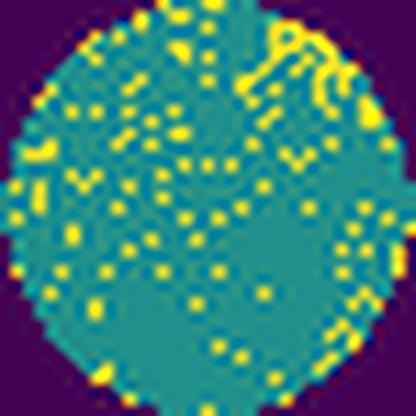Edge-Loc: (231, 0, 363, 121)
